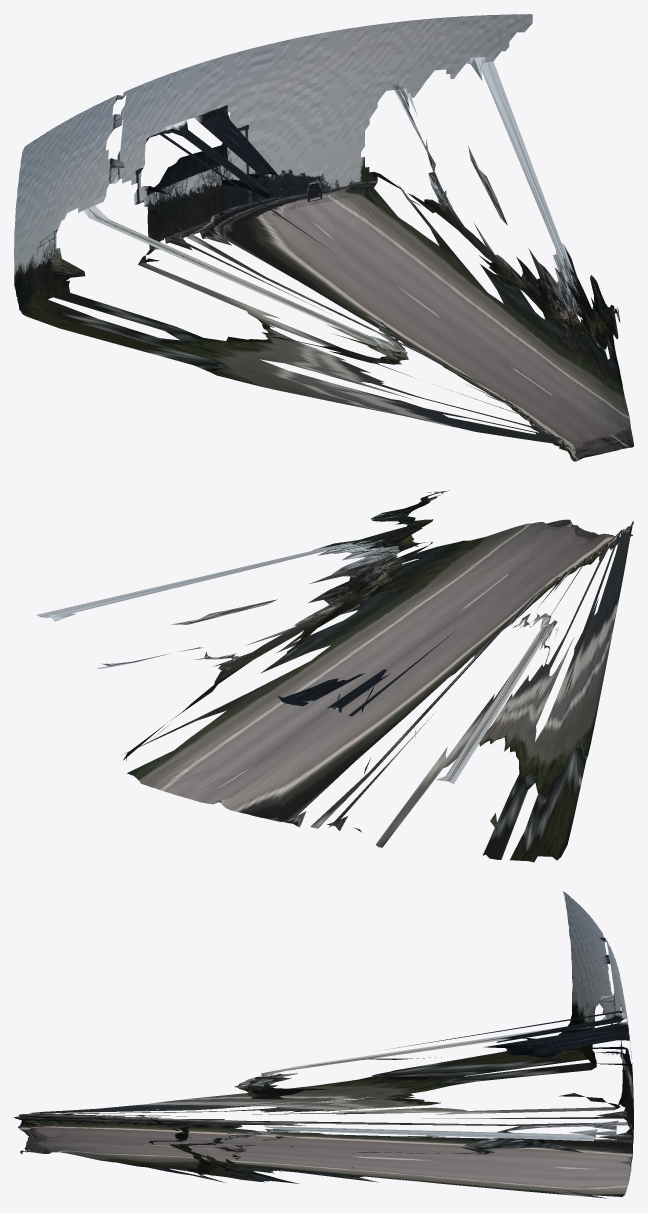
3 renders of one model, top to bottom at view 1: azimuth 30°, elevation 25°; view 2: azimuth 150°, elevation 25°; view 3: azimuth 270°, elevation 25°, orthographic. The views are drawn at different scales.
Visible parts, largest first — view 1: defaultobject; view 2: defaultobject; view 3: defaultobject.
Part boxes in pixels (x1,y1,x2,y2): defaultobject: (14,14,633,461); defaultobject: (36,490,633,862); defaultobject: (14,891,633,1198).
Bounding box in the file's own units: 38.72 × 13.25 × 45.09.
1 material, 1 textured.
